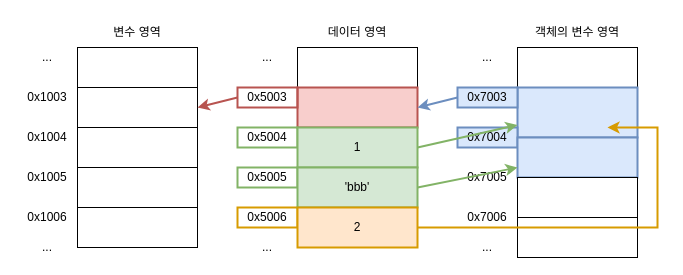
Image size: 683x275. Some labels were removed from this diagram. The centre of each missing label's shape, as x and y in pixels:
0x7003 ~ ?: (x=357, y=107)
name : obj value : 0x5003: (x=137, y=107)
name: a value: 0x5004 → 0x5006: (x=577, y=112)
name: b value: 0x5005: (x=577, y=157)
